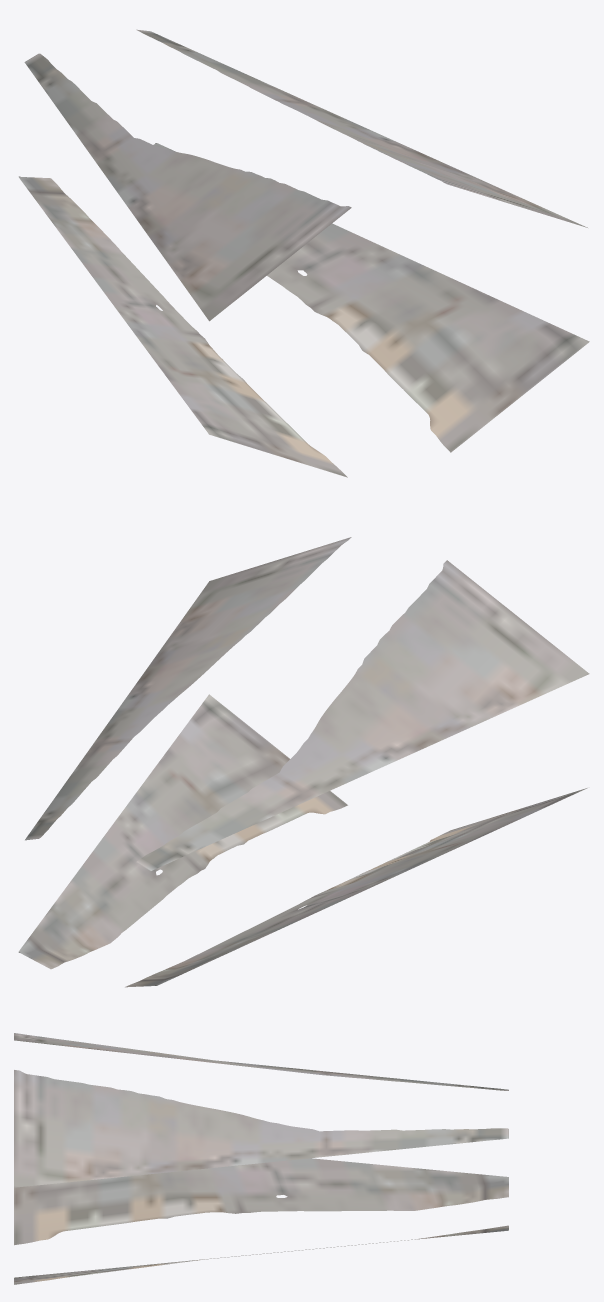
The model's file is hutt_fighter_heavy_engine_s02_l3.fbx.
The picture shows the model from 3 angles, top to bottom: view 1: azimuth 30°, elevation 25°; view 2: azimuth 150°, elevation 25°; view 3: azimuth 270°, elevation 25°; orthographic projection. The views are drawn at different scales.
Visible parts, largest first — view 1: mesh_node; view 2: mesh_node; view 3: mesh_node.
Boxes of the visible parts, x1,y1,x2,y2 form: mesh_node: [18, 29, 589, 477]; mesh_node: [18, 537, 589, 987]; mesh_node: [14, 1033, 508, 1284].
Bounding box in the file's own units: 7.65 × 6.22 × 12.63.
